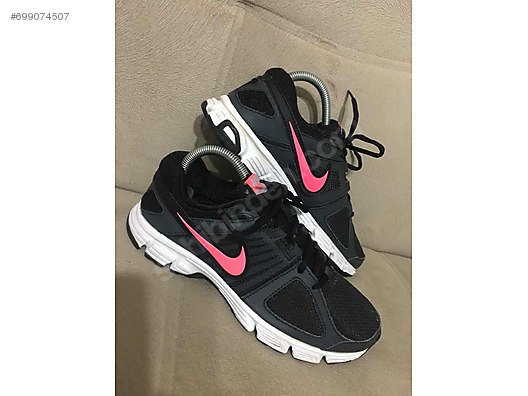nike: (173, 210, 246, 278), (286, 118, 333, 193)
